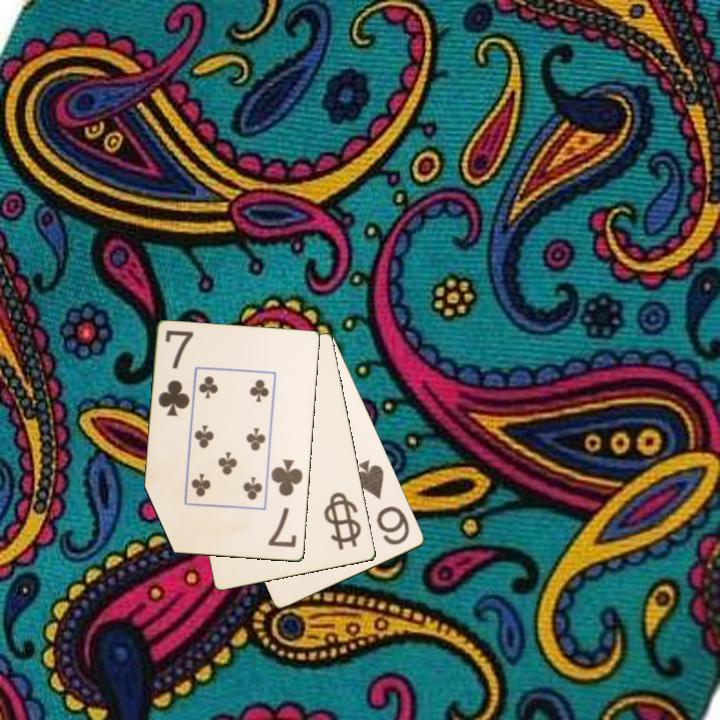6s: (352, 456, 413, 548)
7c: (155, 327, 197, 419), (265, 456, 306, 550)
JK: (330, 493, 361, 542)
